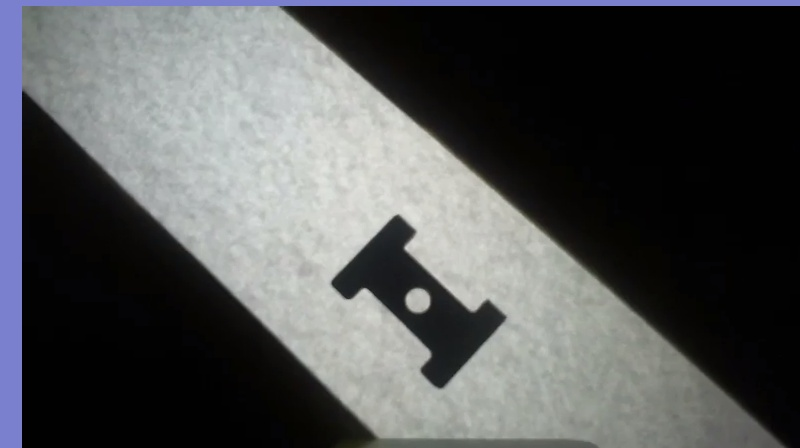O002: (326, 211, 510, 390)
